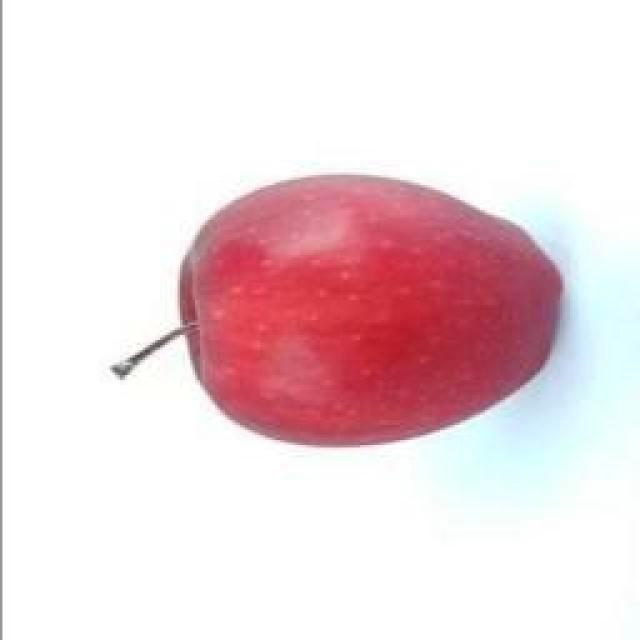Apple: (111, 175, 562, 445)
